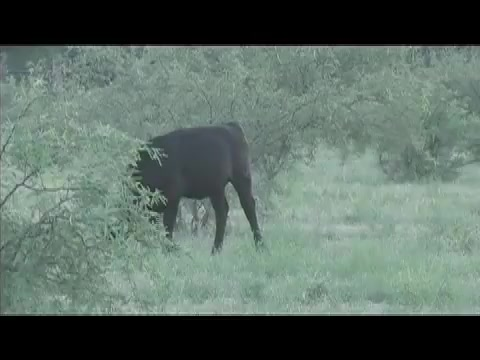cow: (120, 123, 265, 255)
